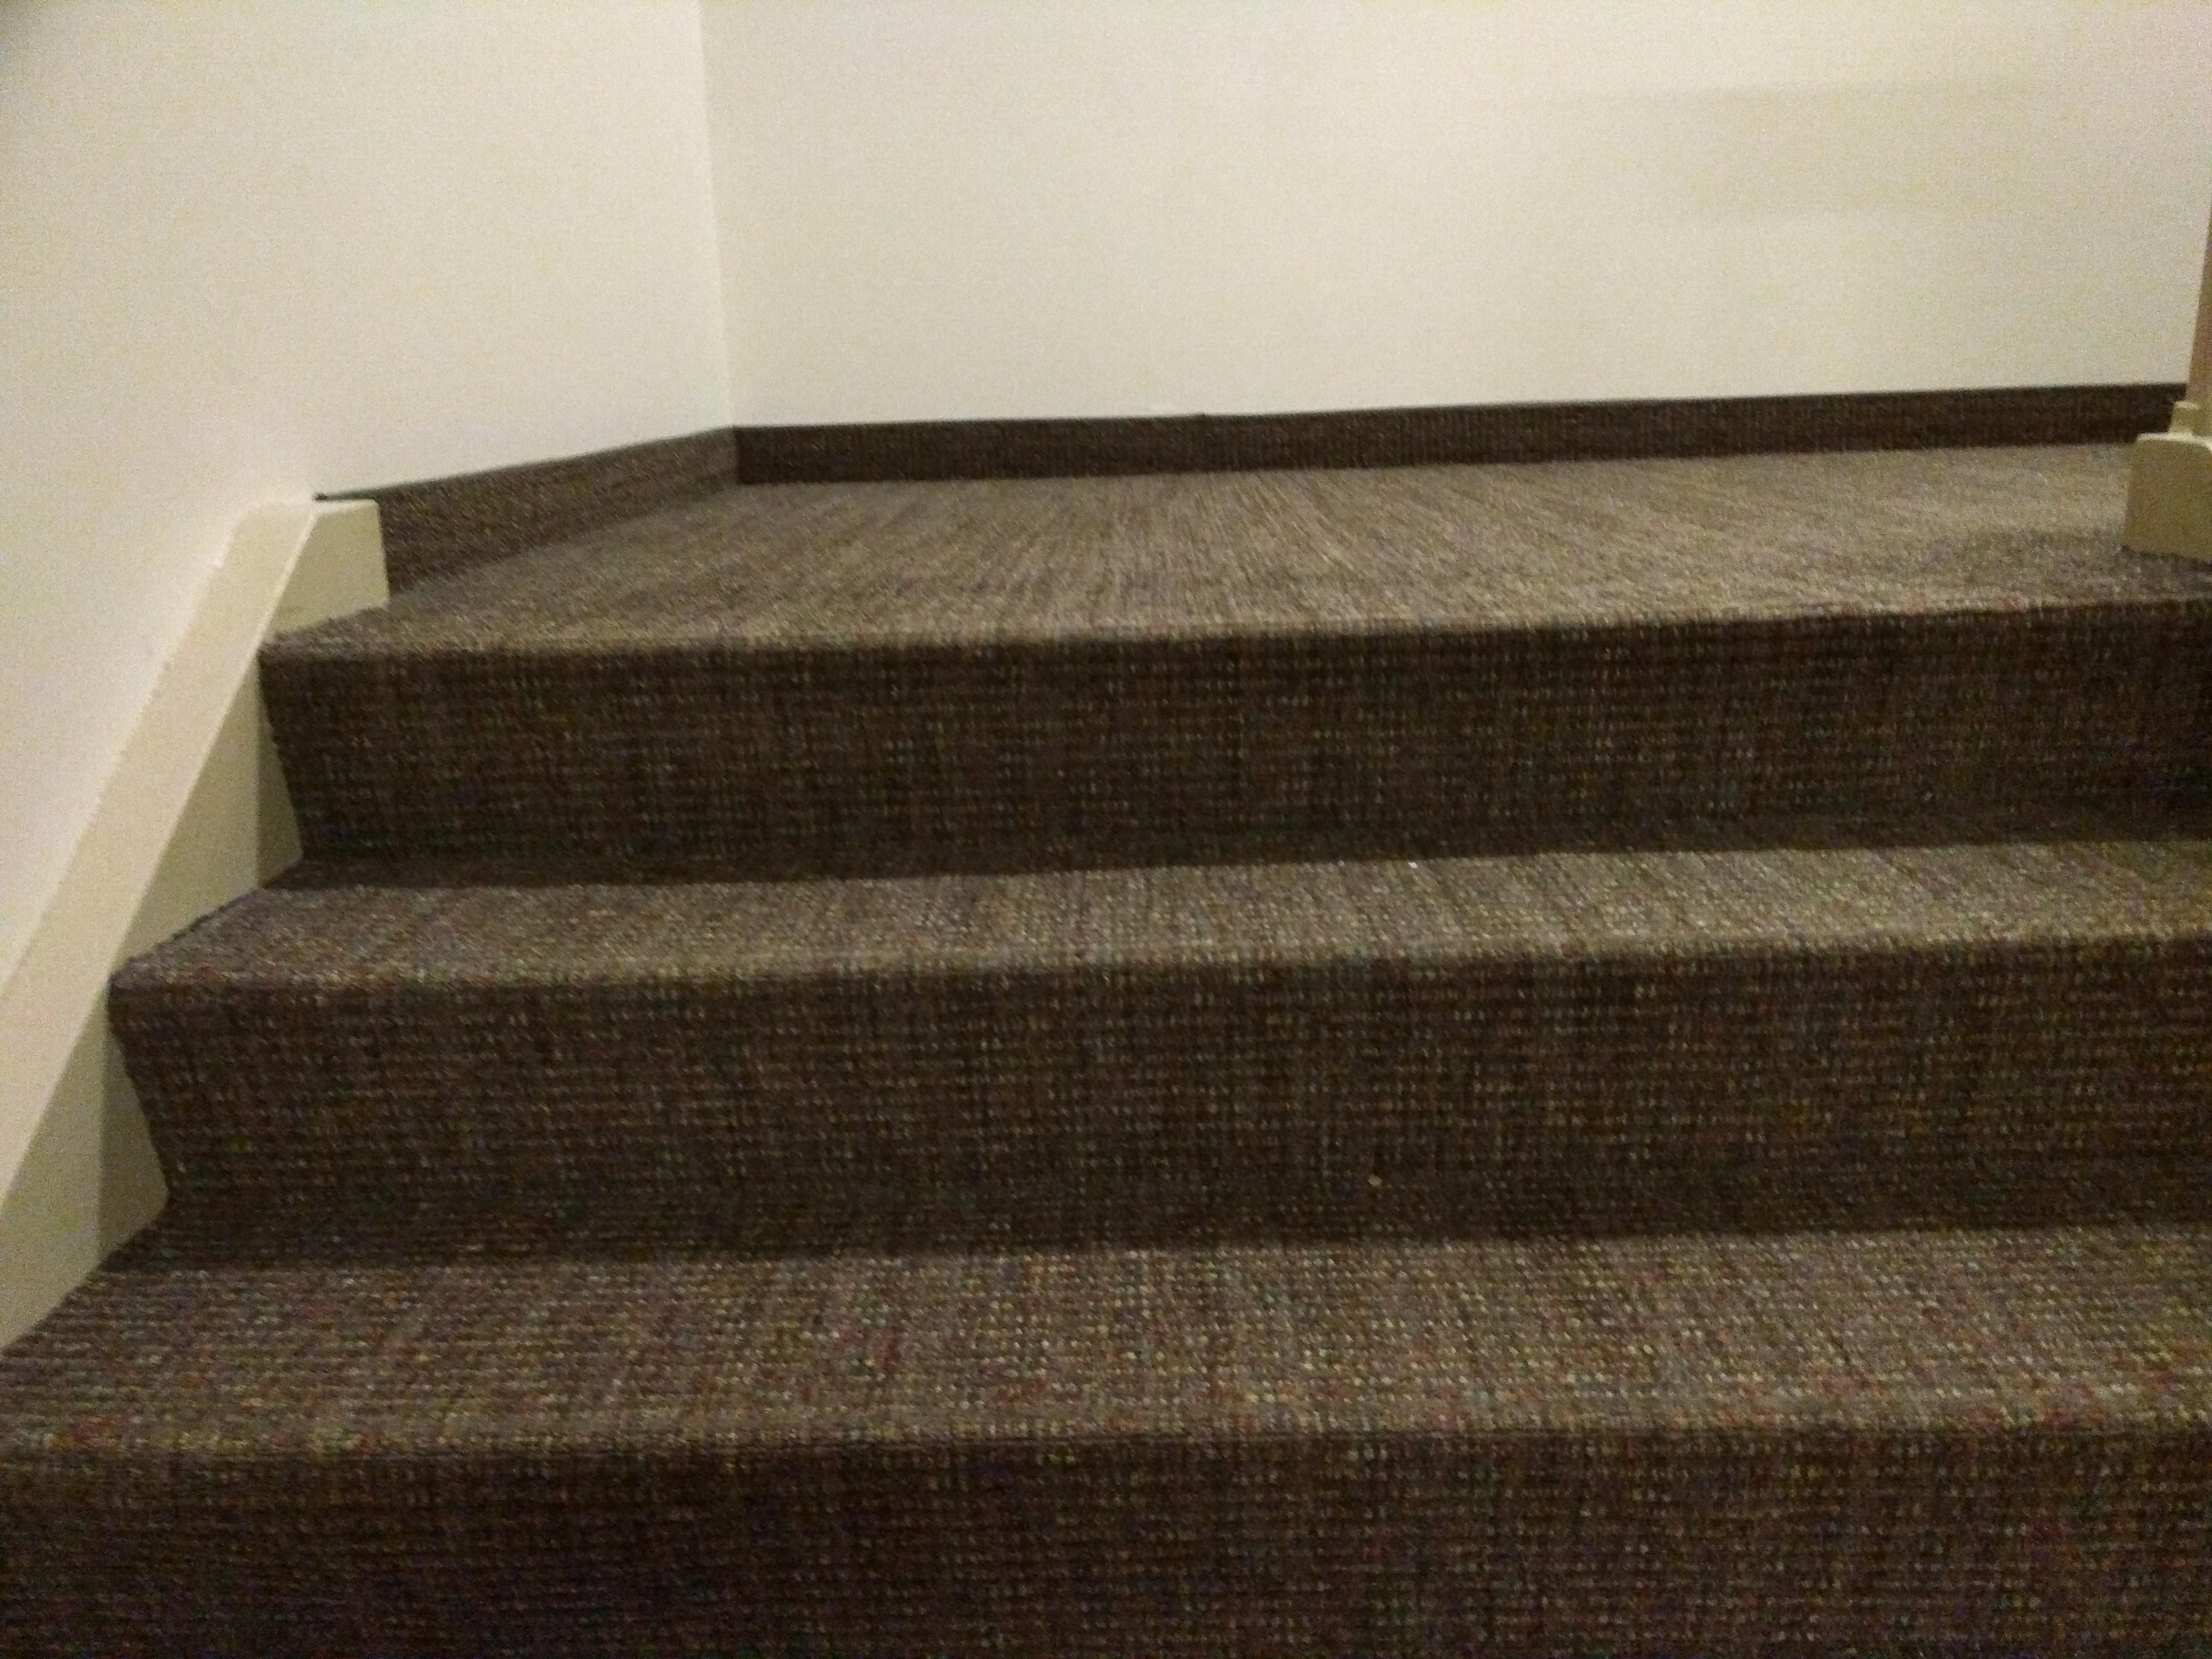stairs_up: (5, 584, 2212, 1619)
